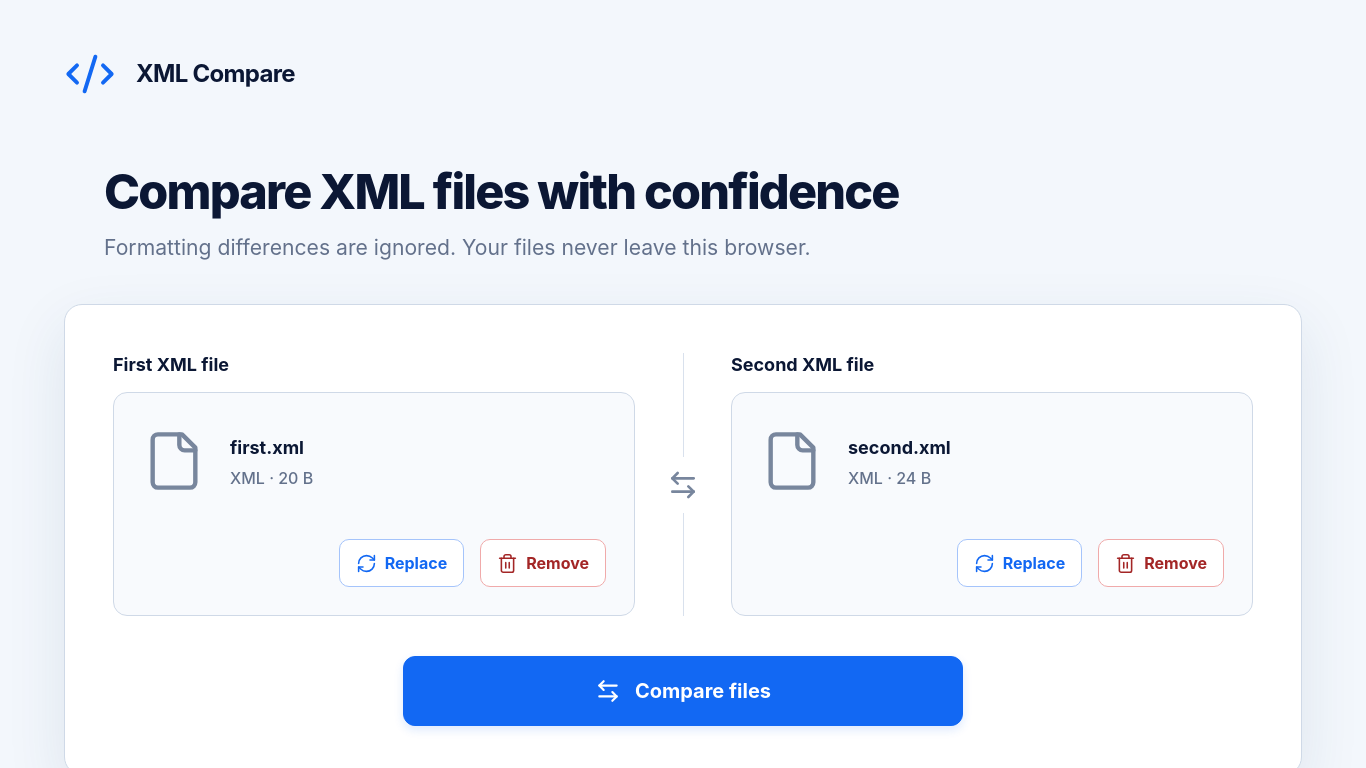
Test: XML comparison workflow › requires both files, then reports an XML match despite formatting differences
Earlier steps of the test are not shown.
Later steps or results of the test are not shown.
Click the button "Compare files". click: (683, 691)
box: [403,656,963,726]
(page scrolled)
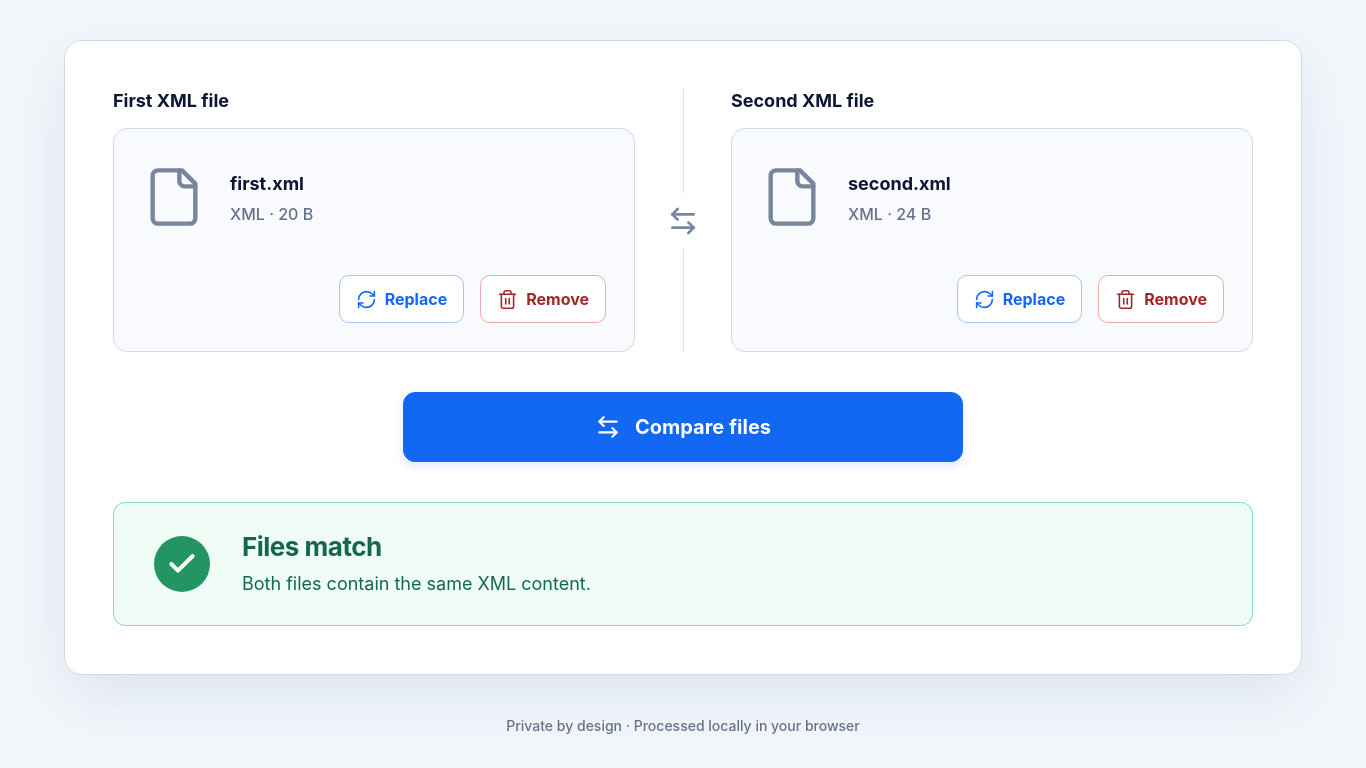
Check: the heading "Files match" is shown, box [242,531,382,562]
